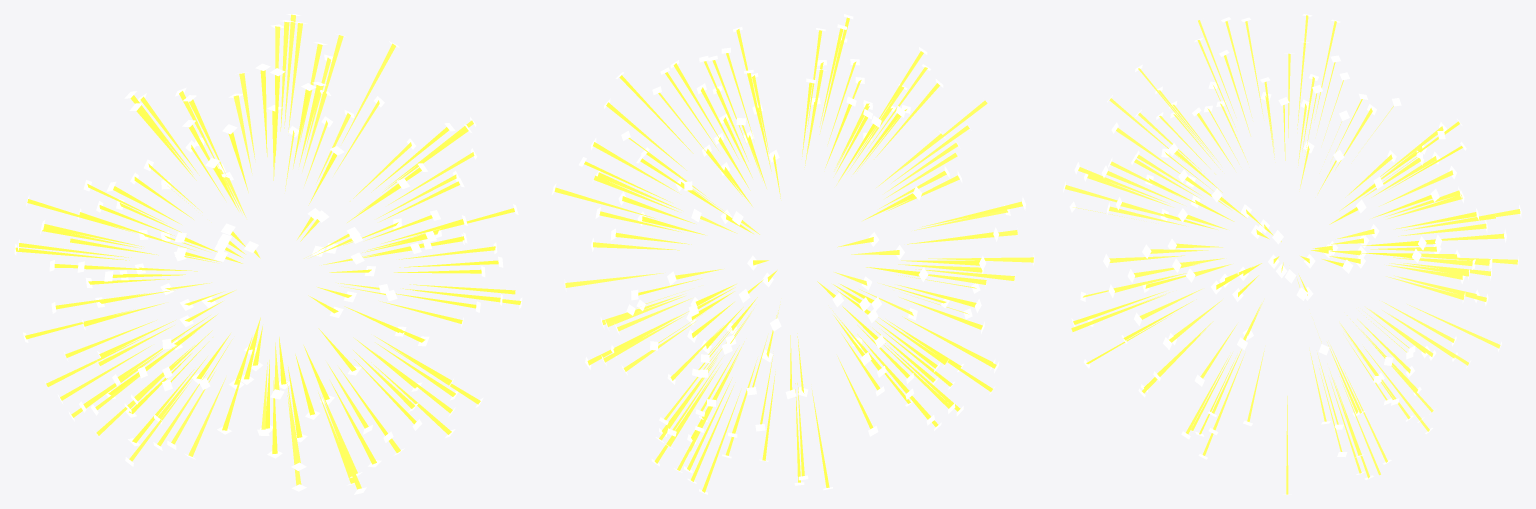
Rendered from firework_gold.glb.
The picture shows the model from 3 angles, left to right: view 1: azimuth 30°, elevation 25°; view 2: azimuth 150°, elevation 25°; view 3: azimuth 270°, elevation 25°; orthographic projection. The views are drawn at different scales.
Parts seen in each view (by area): view 1: main; view 2: main; view 3: main.
Boxes of the visible parts, left/top/right/bottom form: main: left=14, top=14, right=522, bottom=494; main: left=551, top=14, right=1034, bottom=494; main: left=1063, top=14, right=1521, bottom=494.
Bounding box in the file's own units: 9 × 9.49 × 9.21.
Materials: 1 (1 with a texture image).
